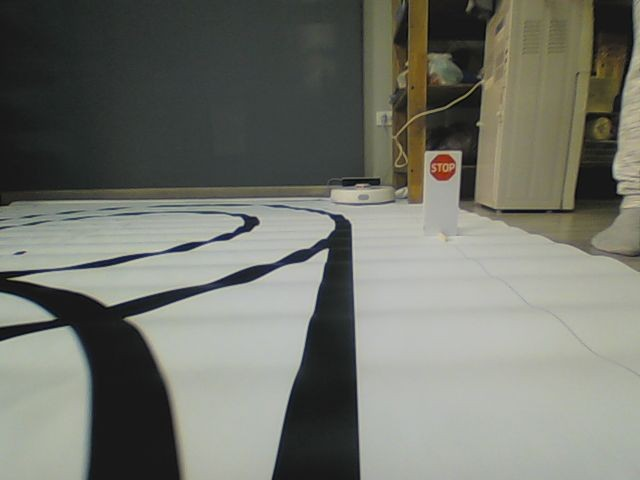Stop: (429, 153, 457, 182)
